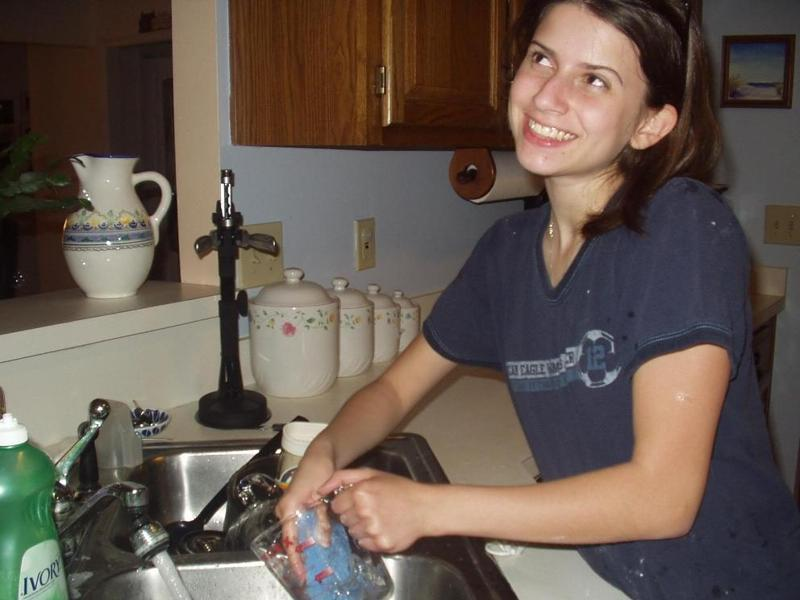person: (278, 5, 799, 598)
